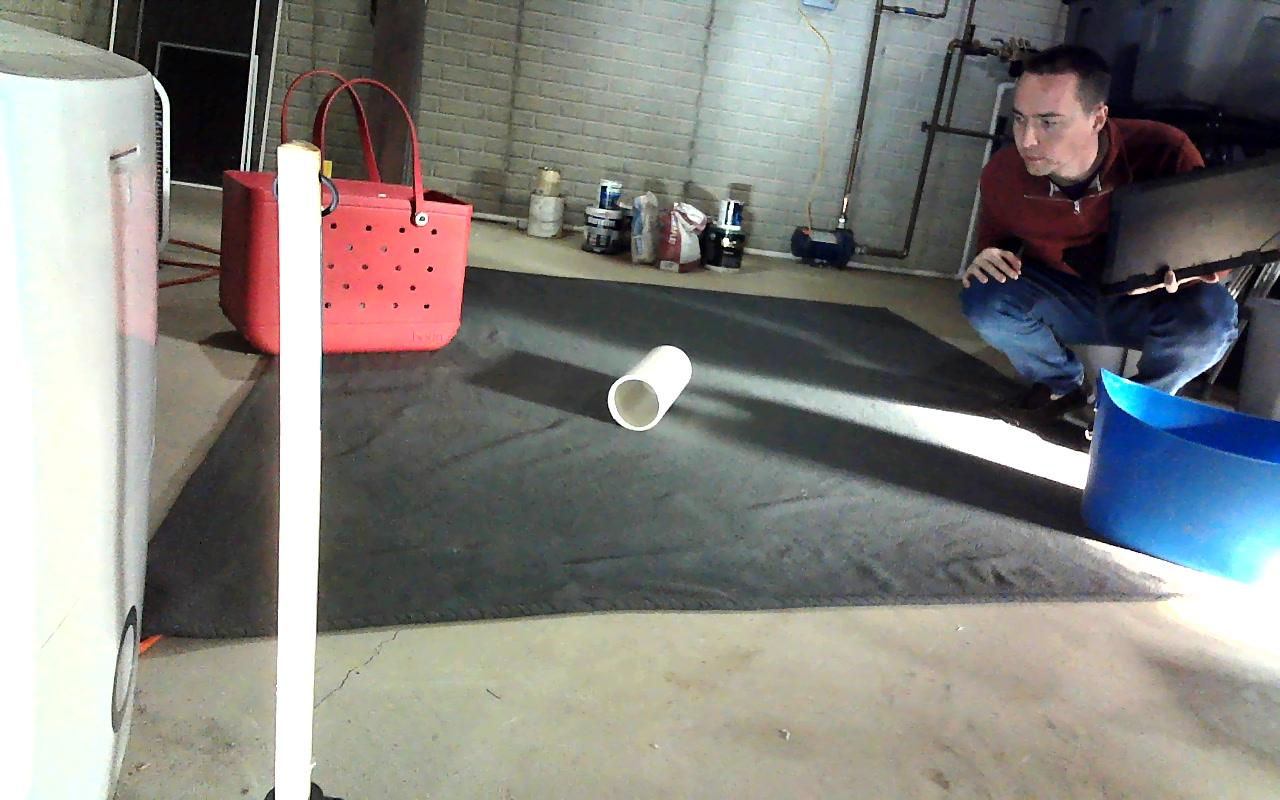coral: (607, 346, 691, 429)
